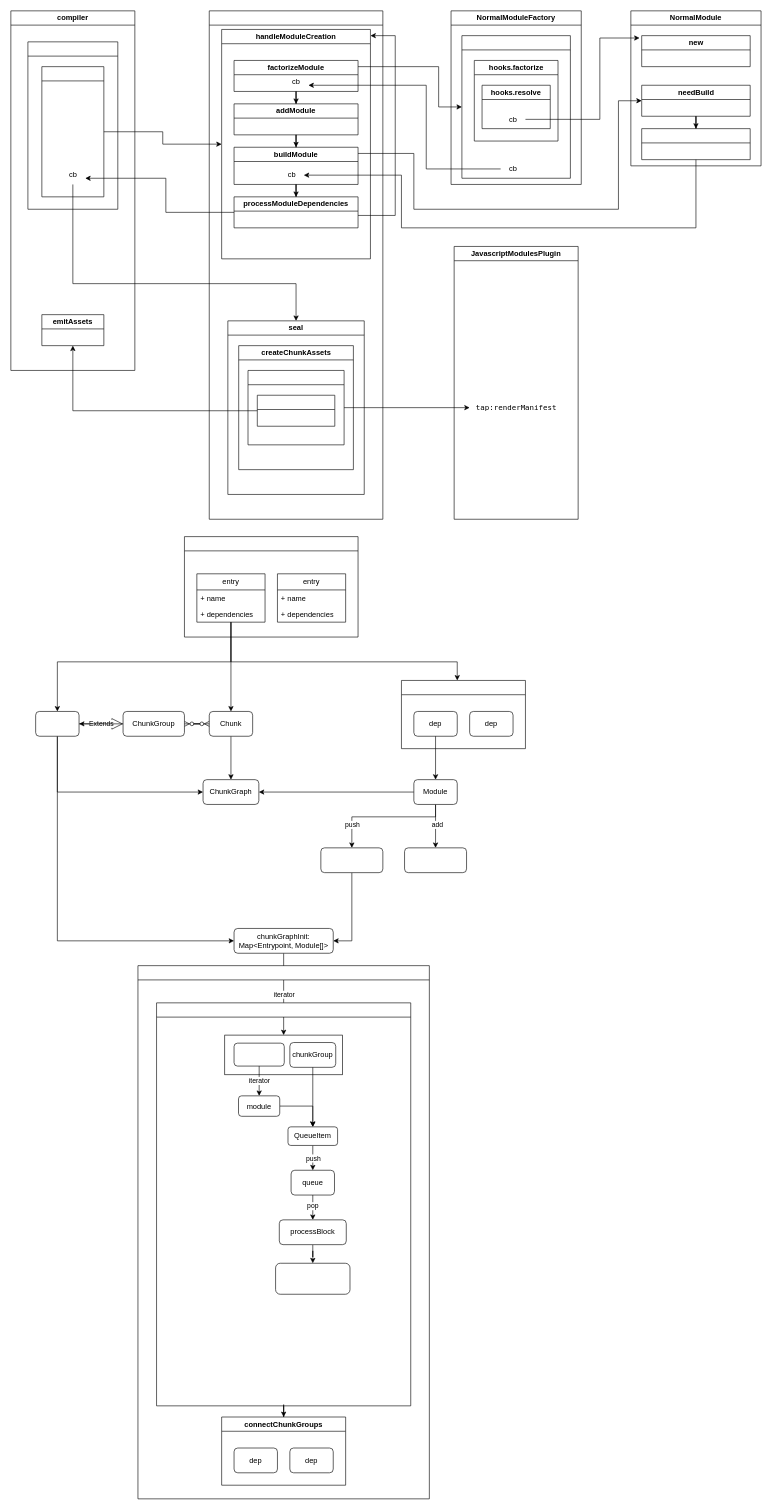
This 772x1510 diagram has some shape labels left out. The box of each missing label's shape, as (x1, y1, x2, y2) in pixels:
build: (641, 128, 750, 160)
buildChunkGraph: (137, 965, 429, 1499)
compilation: (209, 10, 383, 519)
compile: (27, 41, 118, 209)
create: (461, 35, 570, 178)
dependencies: (401, 680, 525, 749)
emitAsset: (257, 395, 335, 426)
entries: (184, 536, 358, 637)
entryModules: (404, 847, 467, 873)
Entrypoint: (35, 711, 79, 736)
getBlockModules 获取block引用的modules: (275, 1263, 350, 1294)
hooks:make: (41, 66, 104, 197)
hooks:renderManifest: (247, 370, 344, 445)
modules: (233, 1043, 284, 1066)
modulesList: (320, 847, 383, 873)
visitModules: (156, 1002, 411, 1406)
